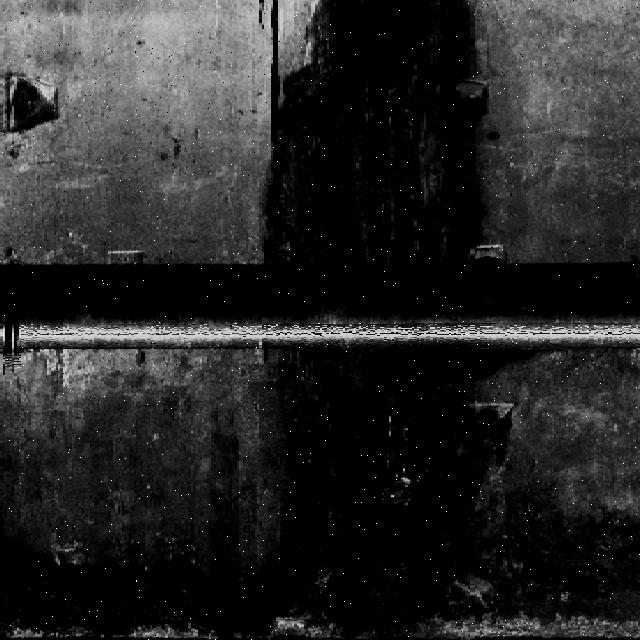leakage: (243, 347, 536, 627), (256, 1, 512, 271), (1, 533, 237, 637), (545, 495, 640, 625)
